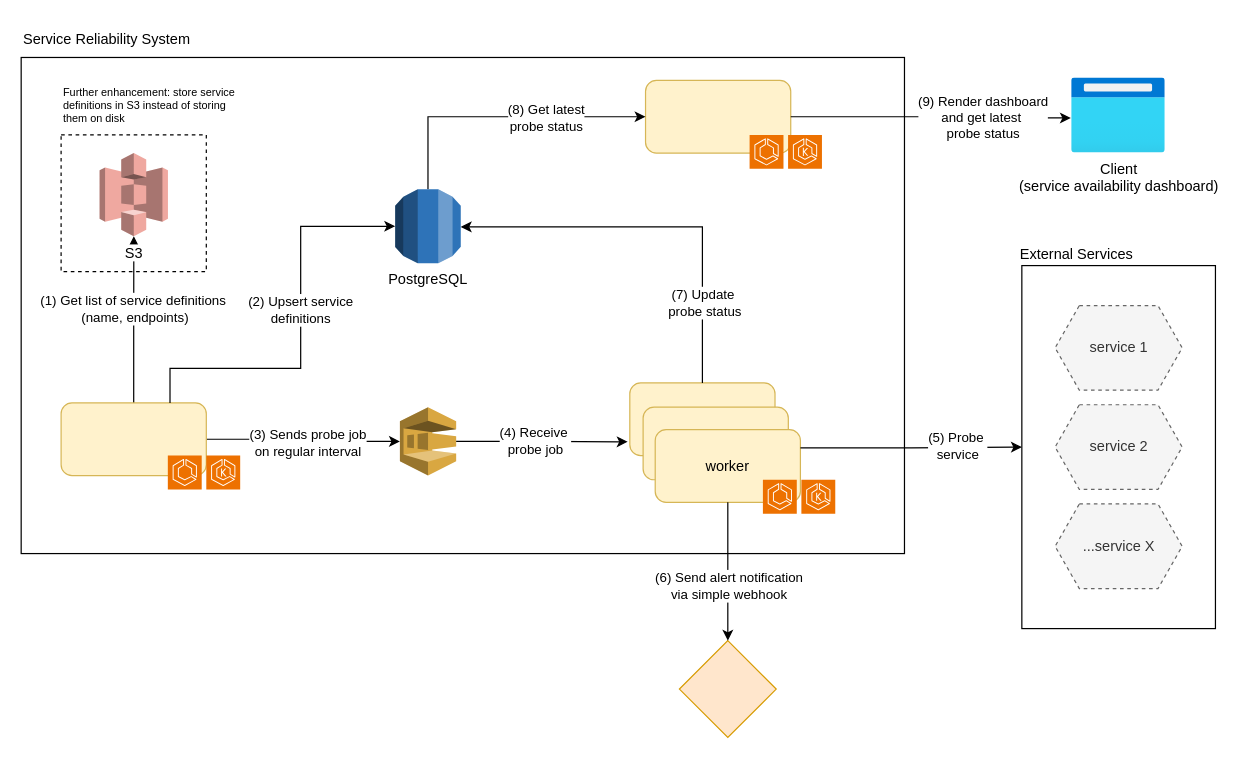
Some shapes in this 1239 by 759 pixel diagram are drawn without their labels. Each missing label, with the box of its shape:
api: (644, 79, 791, 153)
scheduler: (60, 402, 206, 476)
SQS: (399, 406, 456, 476)
Webhook: (678, 639, 776, 737)
